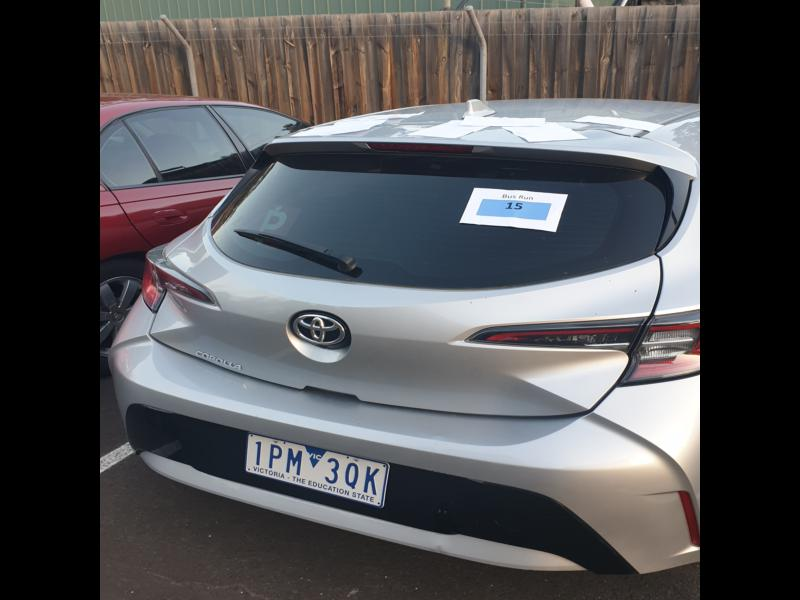BusRun: (478, 197, 550, 220)
PlateNo: (241, 433, 394, 510)
